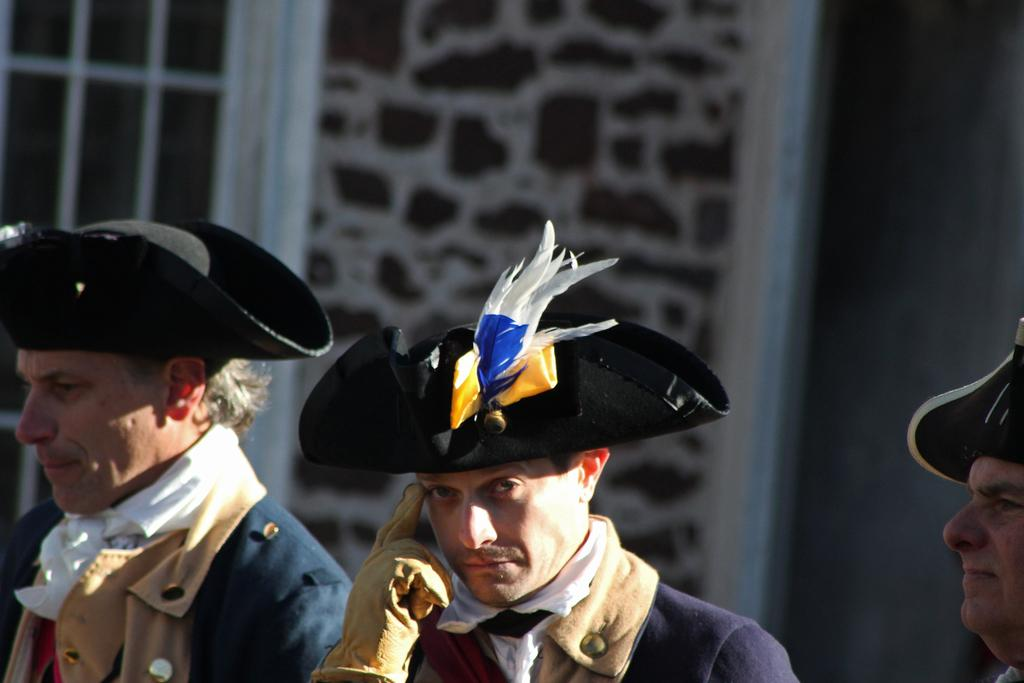Hat: (296, 214, 732, 474), (0, 220, 332, 361), (904, 314, 1022, 486)
